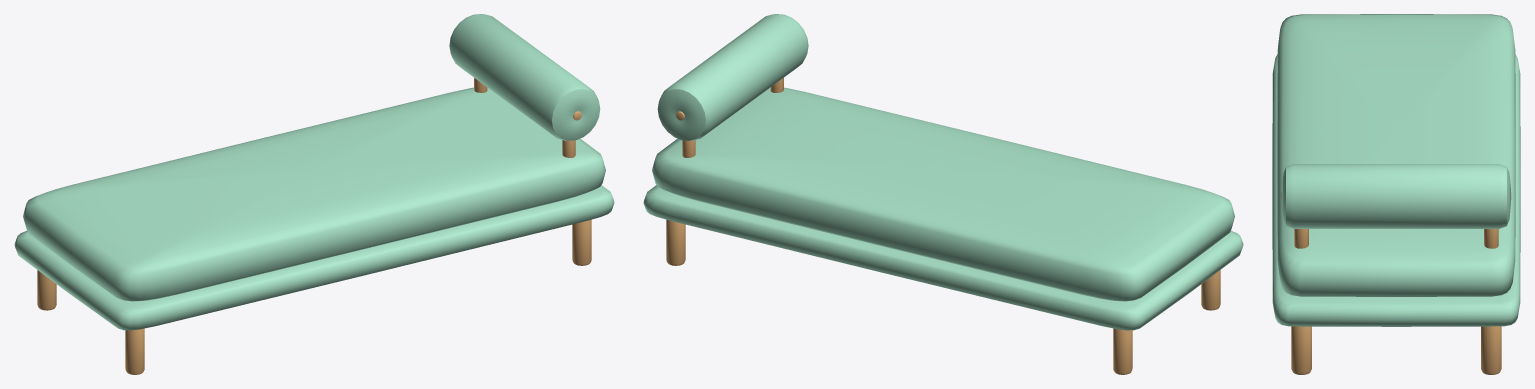
The model's file is diva_rolo_menta.glb.
3 views of the same model, side by side, from view 1: azimuth 30°, elevation 25°; view 2: azimuth 150°, elevation 25°; view 3: azimuth 270°, elevation 25° (orthographic). The views are drawn at different scales.
Parts seen in each view (by area): view 1: diva_rolo_menta; view 2: diva_rolo_menta; view 3: diva_rolo_menta.
Boxes of the visible parts, x1,y1,x2,y2 form: diva_rolo_menta: (14,14,614,374); diva_rolo_menta: (643,14,1243,374); diva_rolo_menta: (1272,14,1520,374).
Size of the model in its own units: 1.9 by 0.67 by 0.76.
1 material, 1 textured.
